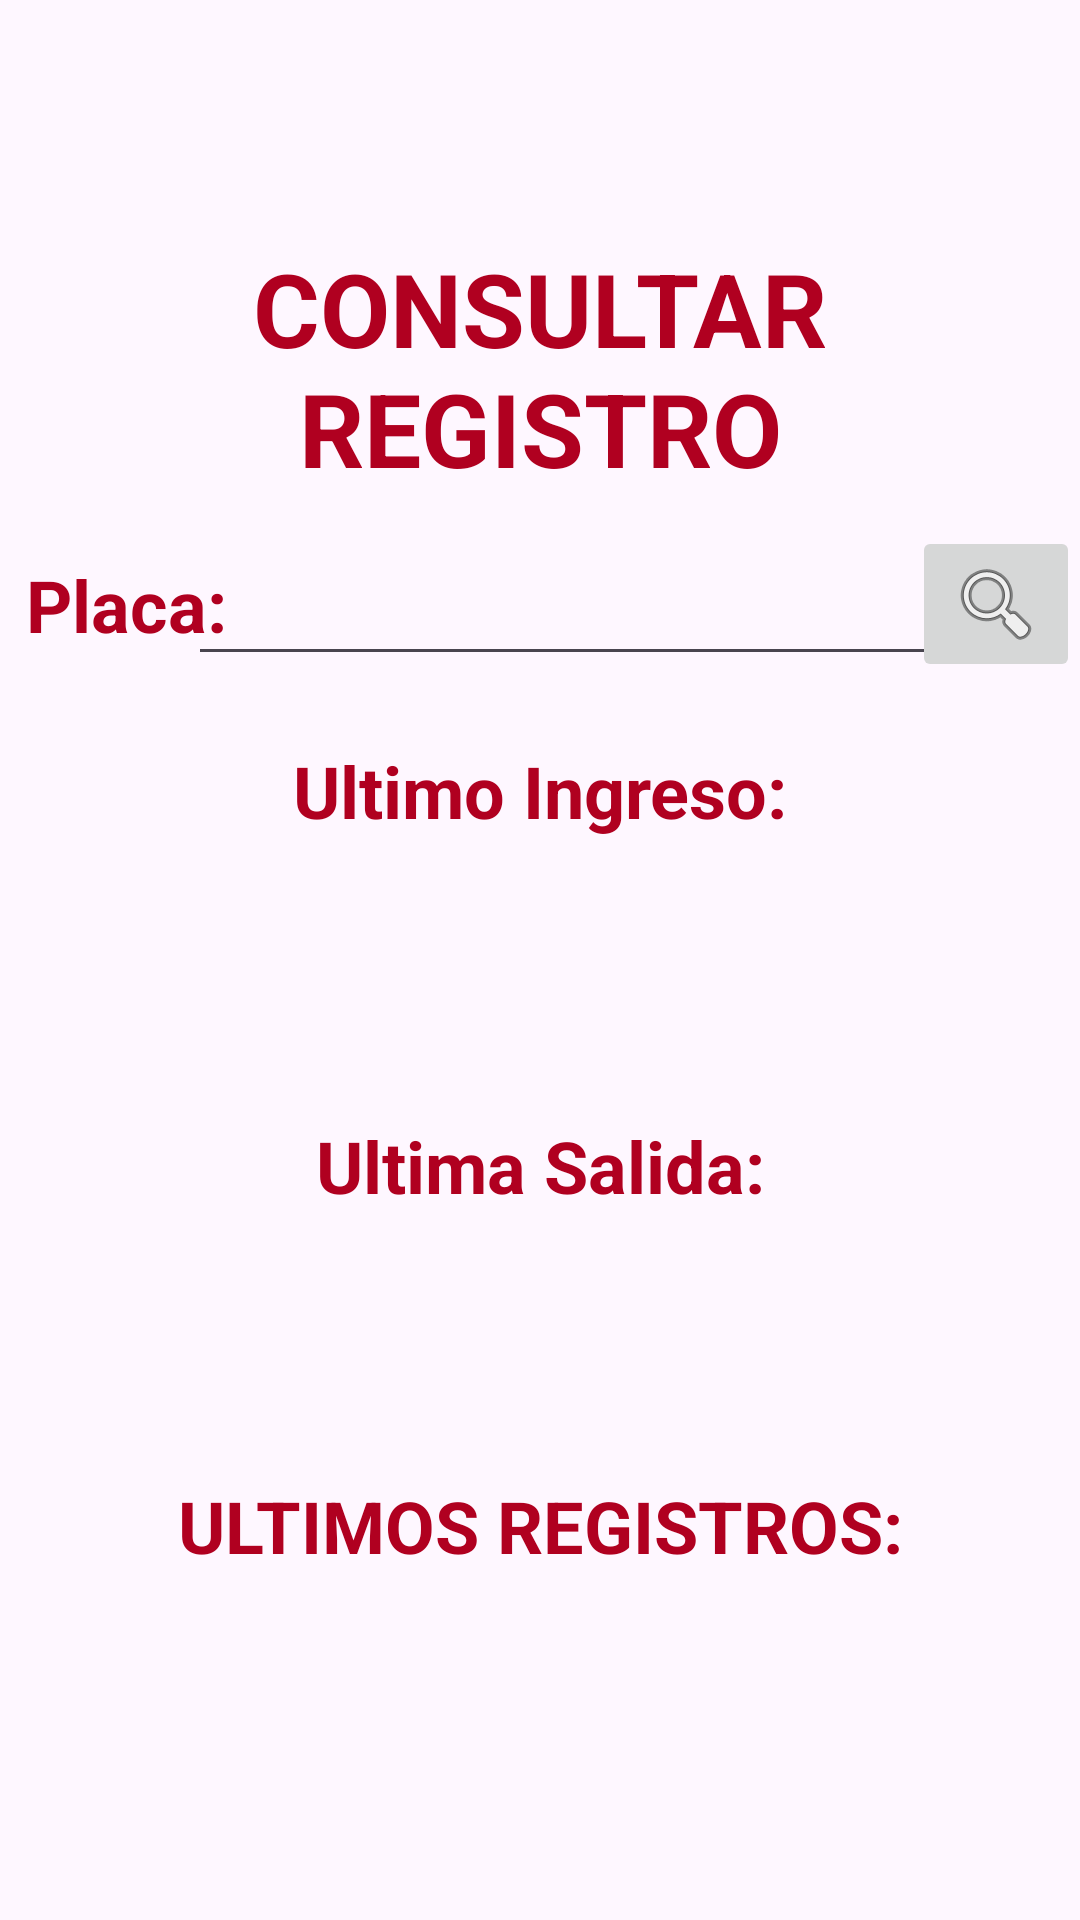

Where to tap for icons on this 1080*1920 app screen, as point (x, y):
search: point (990, 604)
